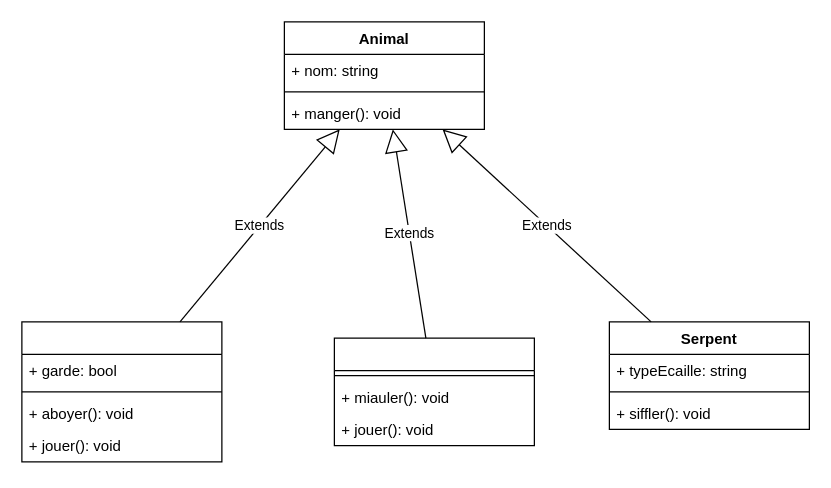
The diagram is 831 pixels wide and 488 high, and some of its shapes have lost their labels. The shapes that lost their labels are listed below. From the top down, each one's box as (x1, y1, x2, y2) in pixels, then its label:
(21, 321, 222, 462): Chien
(333, 337, 534, 446): Chat
